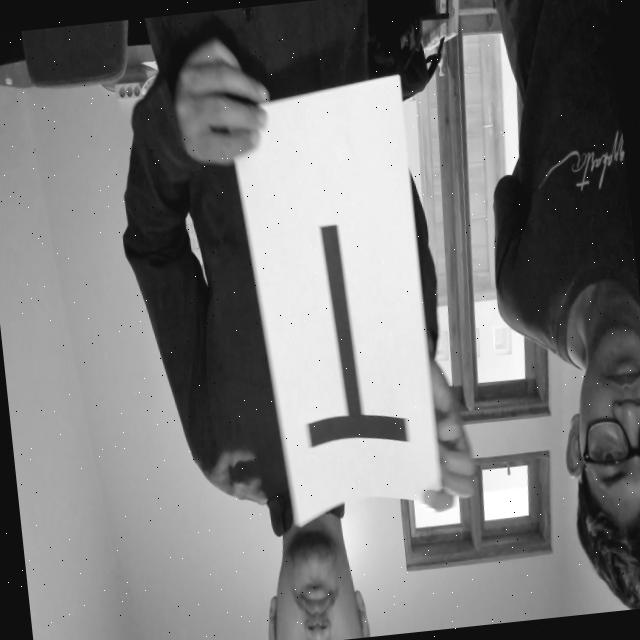t: (267, 190, 418, 470)
